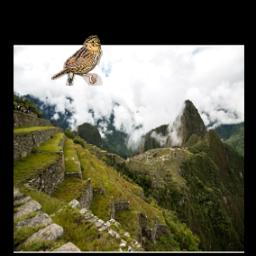Sparrow: (50, 35, 102, 86)
